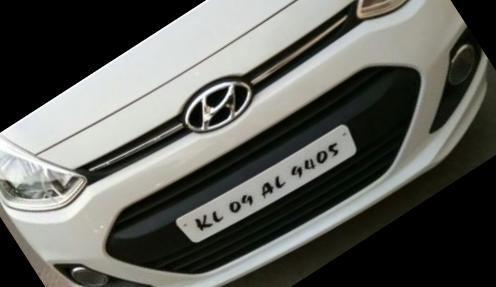plate: (159, 82, 398, 268)
